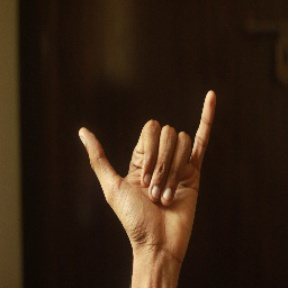J: (70, 65, 222, 250)
